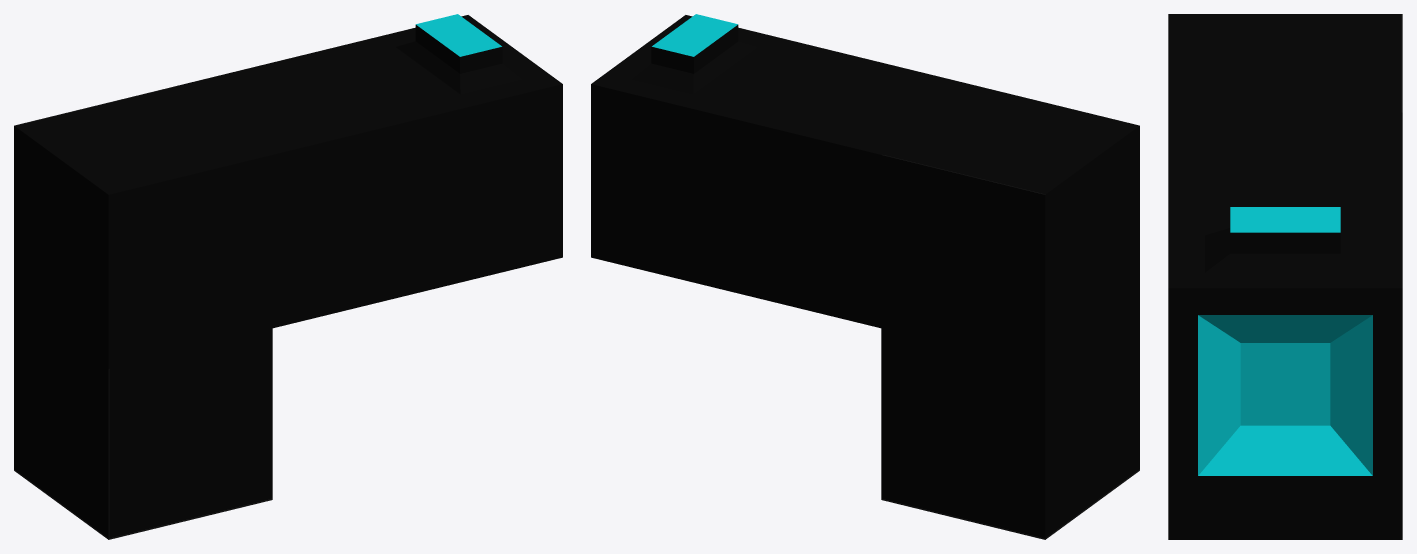
Rendered from Gun.fbx.
3 renders of one model, left to right at view 1: azimuth 30°, elevation 25°; view 2: azimuth 150°, elevation 25°; view 3: azimuth 270°, elevation 25°, orthographic. The views are drawn at different scales.
Visible parts, largest first — view 1: Cube; view 2: Cube; view 3: Cube.
Boxes of the visible parts, x1=… form: Cube: x1=14, y1=14, x2=562, y2=539; Cube: x1=591, y1=14, x2=1139, y2=539; Cube: x1=1168, y1=14, x2=1402, y2=539.
Bounding box in the file's own units: 554 × 435 × 200.
